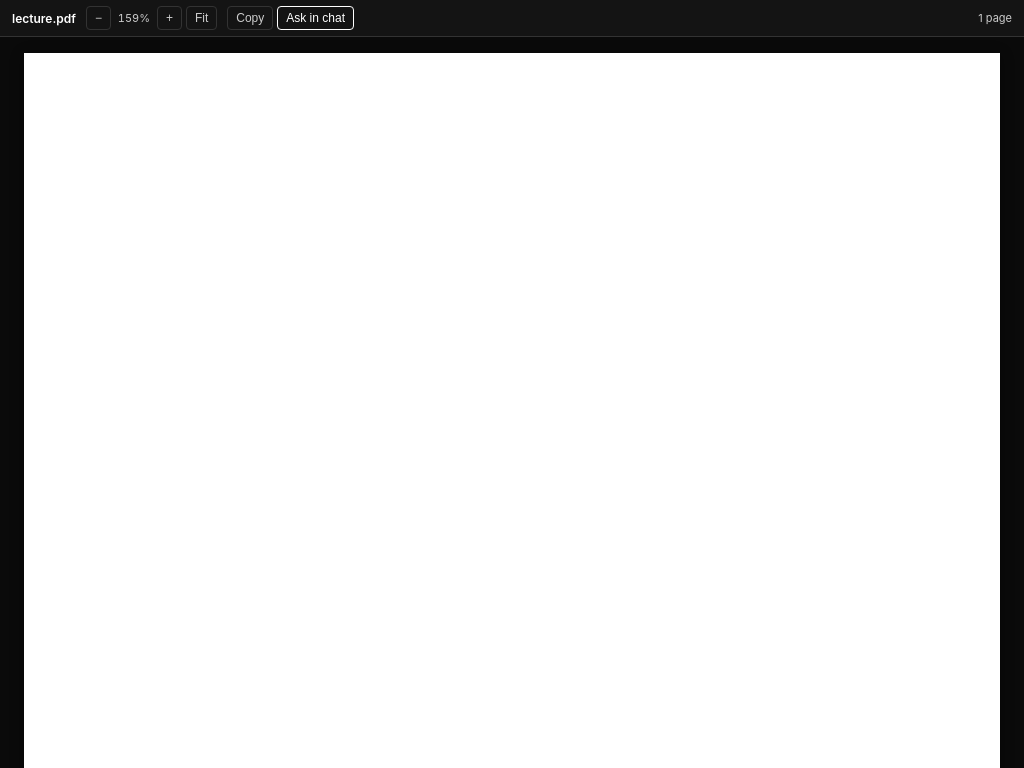
PdfPreview › falls back to the clipboard when the chat panel is closed
Expected: the text "1 page" is shown, [978,11,1012,25]
Click the button "Ask in chat" at (316,18), box [277,6,354,30]
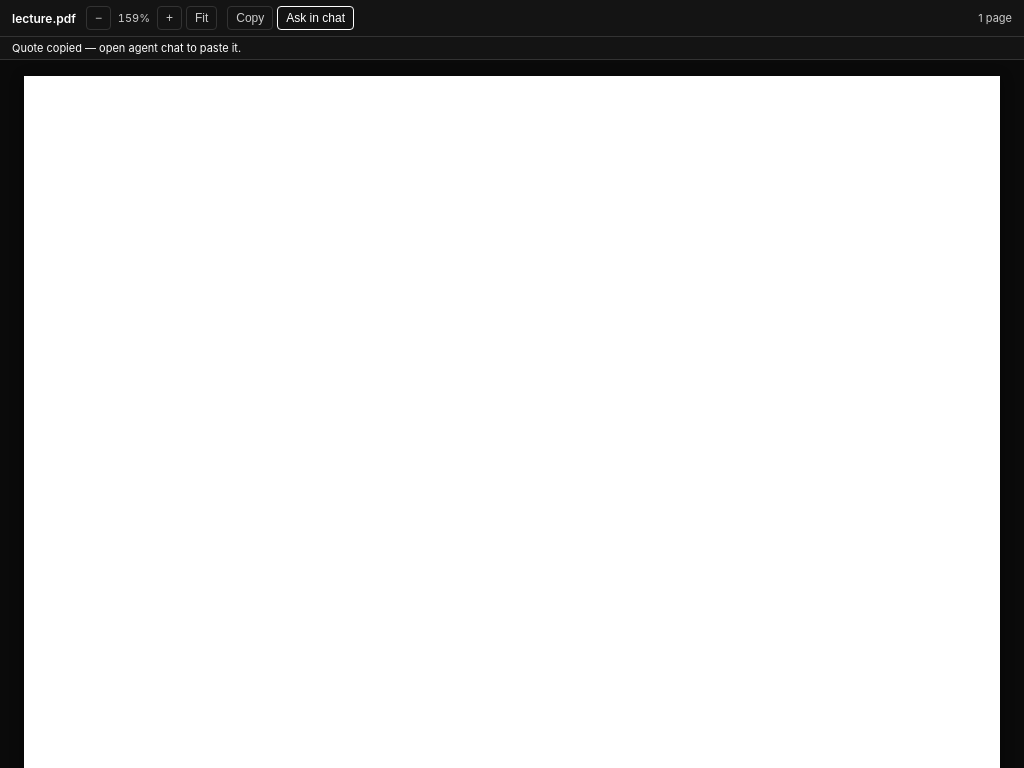
Expected: the text "Quote copied — open agent chat to paste it." is shown, [0,37,1023,60]
